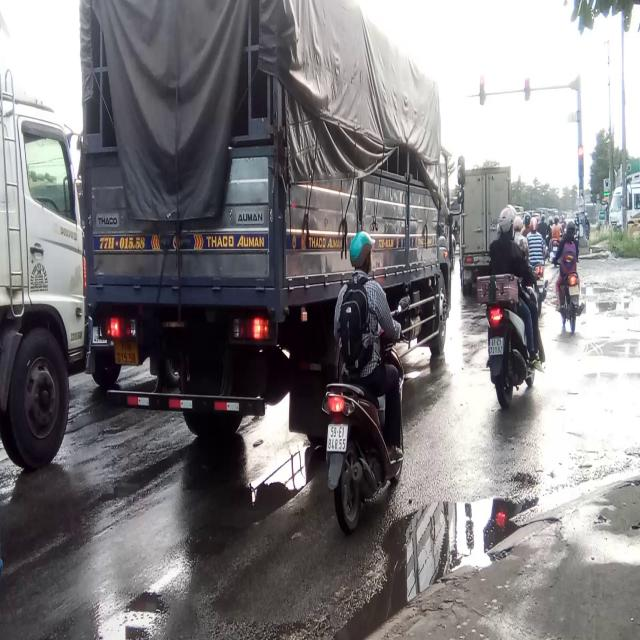bien_trang: (325, 425, 349, 453), (486, 333, 504, 356)
bien_vang: (111, 340, 143, 370)
